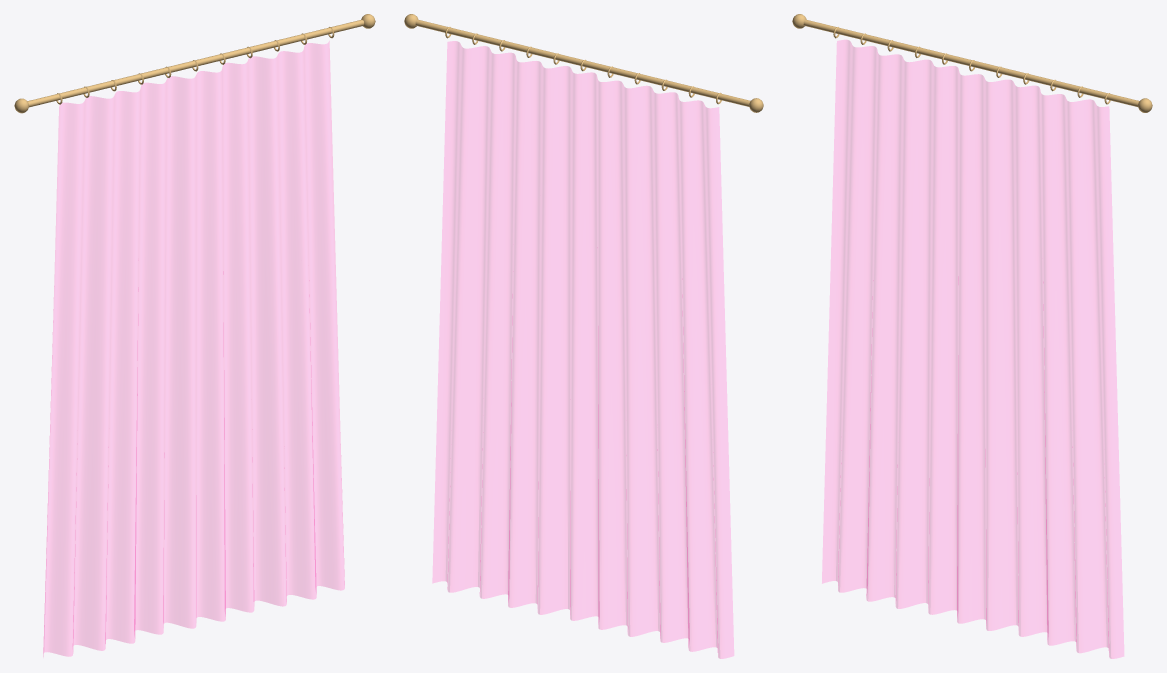
Rendered from KIT_Cortina_Reta.glb.
3 views of the same model, side by side, from view 1: azimuth 30°, elevation 25°; view 2: azimuth 150°, elevation 25°; view 3: azimuth 330°, elevation 25° (orthographic).
Parts seen in each view (by area): view 1: KIT_Cortina_Reta; view 2: KIT_Cortina_Reta; view 3: KIT_Cortina_Reta.
Boxes of the visible parts, box(x1,y1,x2,y2) form: KIT_Cortina_Reta: box(14, 14, 375, 656); KIT_Cortina_Reta: box(404, 14, 763, 658); KIT_Cortina_Reta: box(792, 14, 1152, 658).
Size of the model in its own units: 1.78 by 2.68 by 0.1153.
